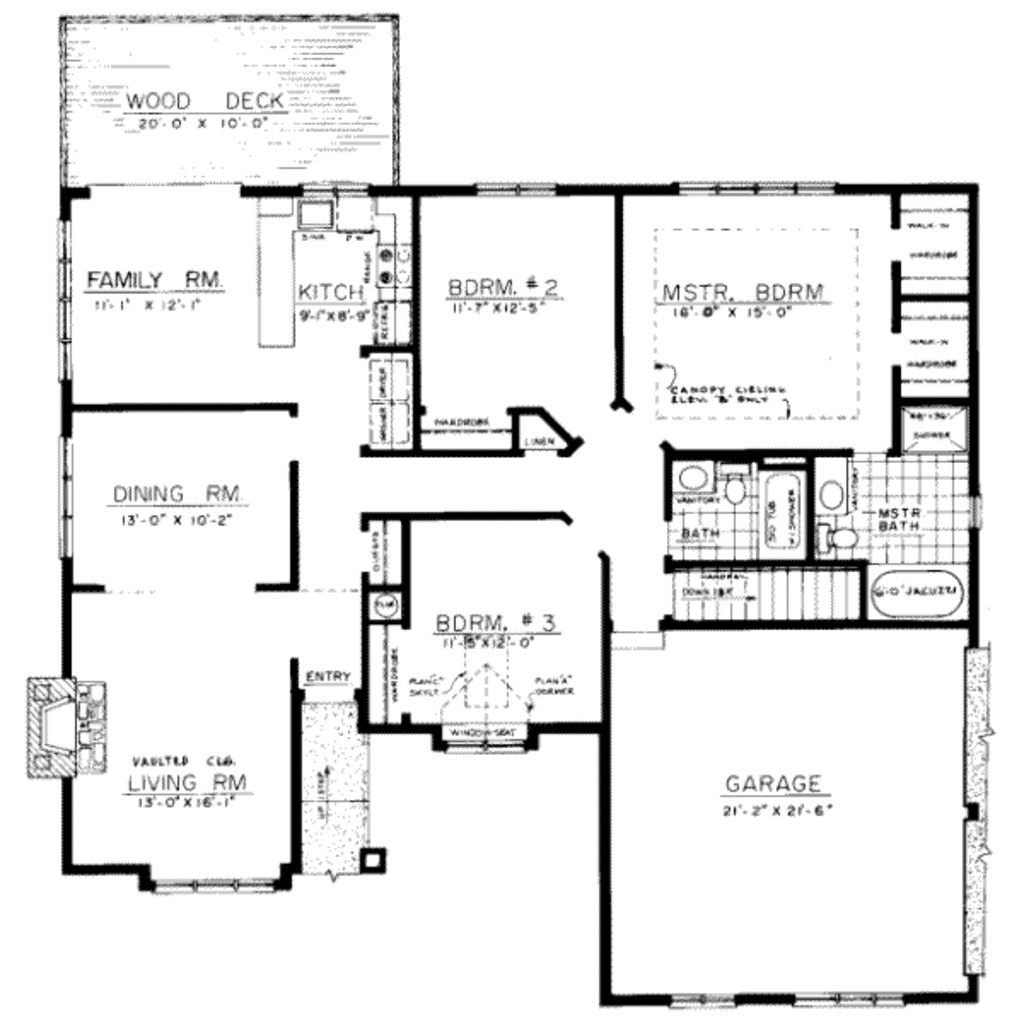large_sink: (712, 451, 755, 513), (812, 516, 867, 564)
sink: (283, 189, 353, 234)
small_sink: (812, 454, 858, 511), (667, 459, 723, 492)
tub: (866, 557, 967, 621), (766, 460, 812, 562)
window: (672, 167, 844, 203), (47, 430, 93, 559), (137, 867, 280, 897), (58, 216, 80, 380), (461, 170, 563, 203), (788, 986, 909, 1011), (659, 984, 732, 1016), (442, 740, 534, 756)
